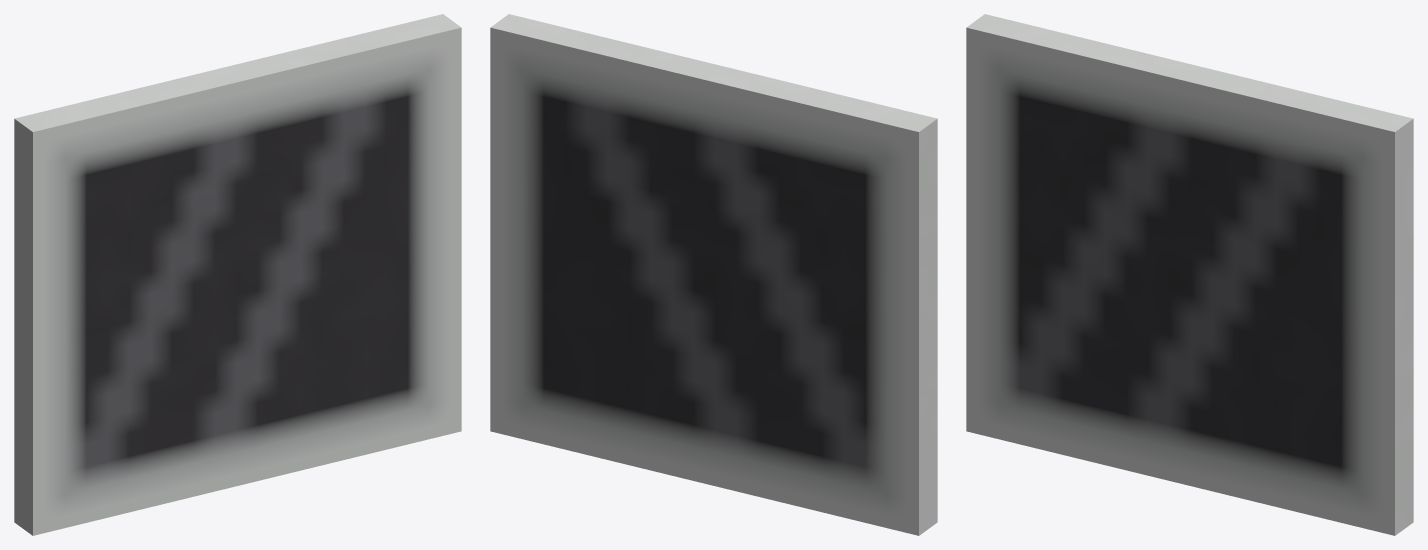
File: era4_disk_mainframe_lid_double_sided.obj
The picture shows the model from 3 angles, left to right: view 1: azimuth 30°, elevation 25°; view 2: azimuth 150°, elevation 25°; view 3: azimuth 330°, elevation 25°; orthographic projection.
Visible parts, largest first — view 1: era4_disk_mainframe; view 2: era4_disk_mainframe; view 3: era4_disk_mainframe.
Boxes of the visible parts, x1,y1,x2,y2 form: era4_disk_mainframe: (14, 14, 461, 535); era4_disk_mainframe: (490, 14, 937, 535); era4_disk_mainframe: (966, 14, 1413, 535).
Size of the model in its own units: 1.25 by 1.12 by 0.0938.
